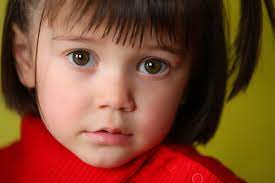without_mask: (45, 31, 184, 161)
